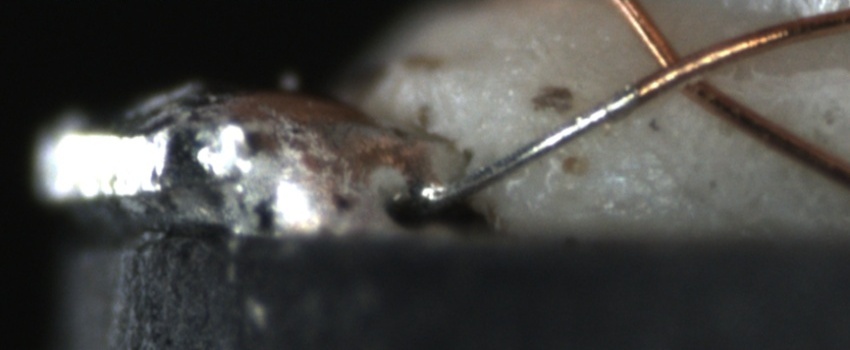CL: (634, 35, 726, 105)
DL: (690, 63, 850, 95)
TS: (421, 84, 641, 211)
